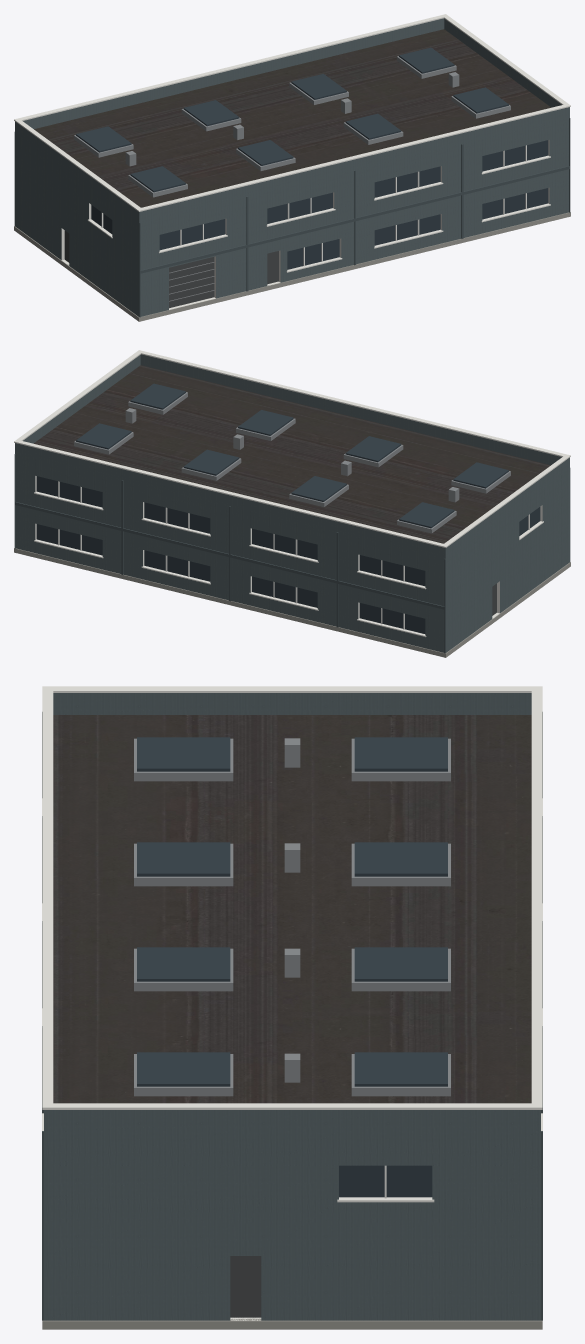
Rendered from w2-workshop.glb.
3 renders of one model, top to bottom at view 1: azimuth 30°, elevation 25°; view 2: azimuth 150°, elevation 25°; view 3: azimuth 270°, elevation 25°, orthographic. The views are drawn at different scales.
Visible parts, largest first — view 1: w2-workshop; view 2: w2-workshop; view 3: w2-workshop.
Boxes of the visible parts, x1,y1,x2,y2 form: w2-workshop: (14,14,570,321); w2-workshop: (14,350,570,657); w2-workshop: (42,686,542,1329).
Size of the model in its own units: 32.12 by 7.88 by 16.12.
9 materials, 2 textured.
